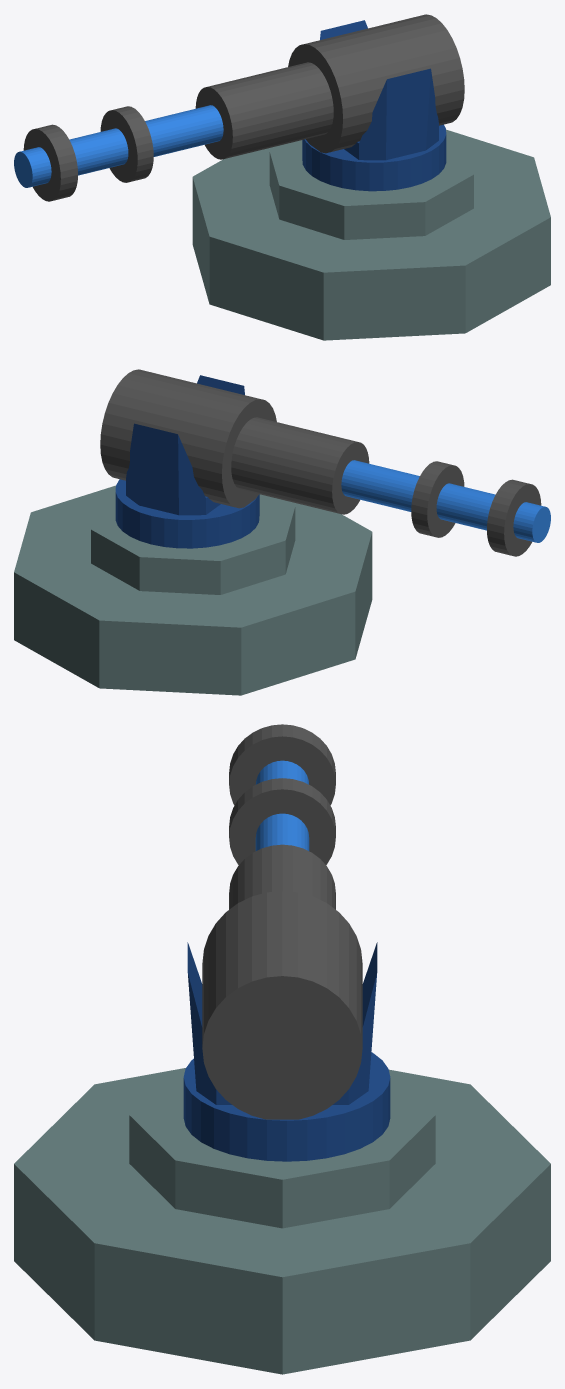
File: TowerEnergy.fbx
The picture shows the model from 3 angles, top to bottom: view 1: azimuth 30°, elevation 25°; view 2: azimuth 150°, elevation 25°; view 3: azimuth 270°, elevation 25°; orthographic projection. The views are drawn at different scales.
Parts seen in each view (by area): view 1: Base, Gun, Turner; view 2: Base, Gun, Turner; view 3: Base, Gun, Turner.
Boxes of the visible parts, x1,y1,x2,y2 form: Base: (192,129,550,340); Gun: (14,14,464,201); Turner: (302,20,446,191); Base: (14,485,372,695); Gun: (100,369,550,556); Turner: (115,375,259,548); Base: (14,1068,550,1374); Gun: (202,724,362,1119); Turner: (183,942,390,1161).
Size of the model in its own units: 315 by 136 by 200.
